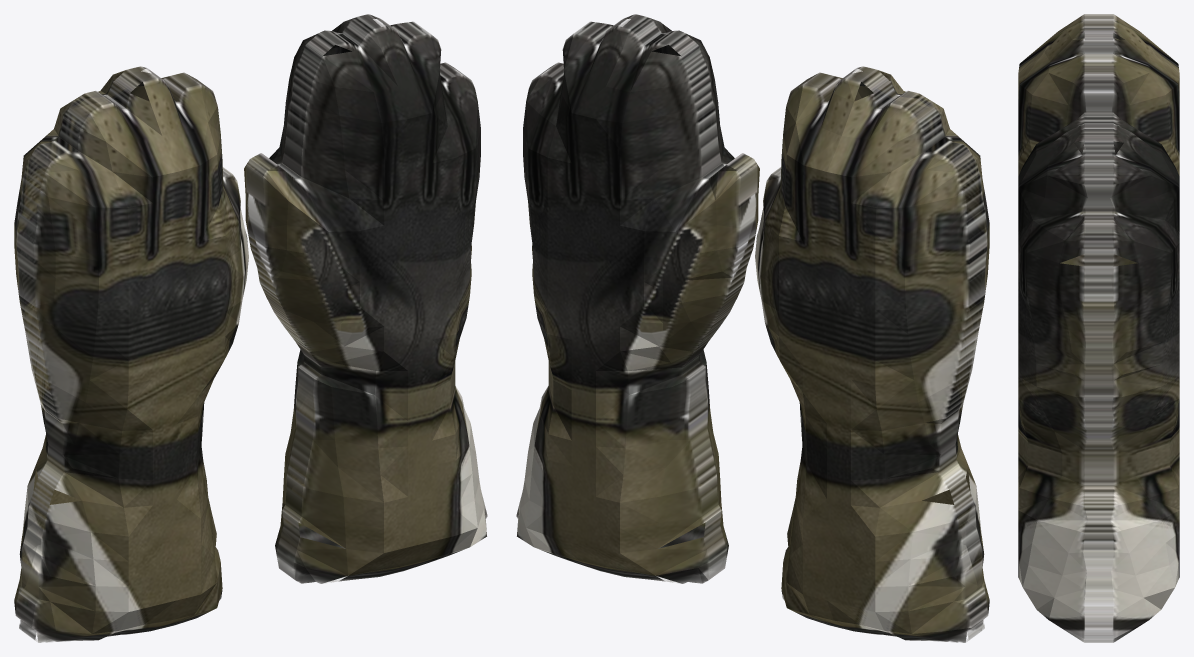
The model's file is arai-nomad-adventure-glove-105.glb.
3 views of the same model, side by side, from view 1: azimuth 30°, elevation 25°; view 2: azimuth 150°, elevation 25°; view 3: azimuth 270°, elevation 25° (orthographic). The views are drawn at different scales.
Parts seen in each view (by area): view 1: world; view 2: world; view 3: world.
Boxes of the visible parts, box(x1,y1,x2,y2) form: world: box(14, 14, 487, 642); world: box(516, 14, 989, 642); world: box(1018, 14, 1179, 642).
Bounding box in the file's own units: 0.8659 × 1 × 0.3.
Materials: 1 (1 with a texture image).
